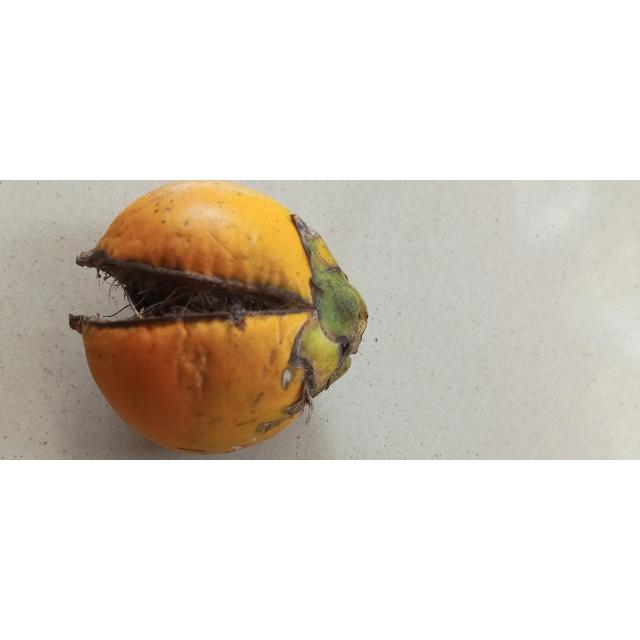damaged: (69, 180, 368, 454)
